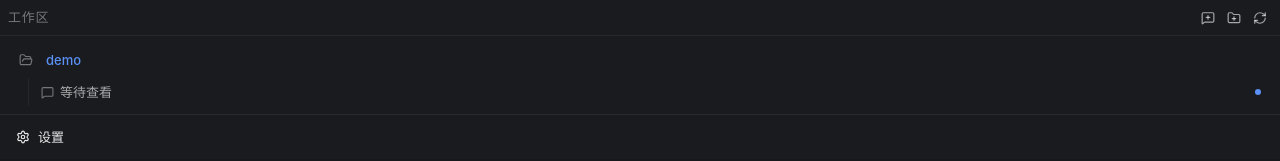
Scenario: WorkspaceSidebar › 执行完成后显示主题圆点，点击查看后移除
This screenshot has width=1280, height=161.
Expected: the message named "执行完成，点击查看" is shown, left=1255, top=89, right=1261, bottom=95
Click the button titled "等待查看": (86,92) left=33, top=78, right=1272, bottom=106
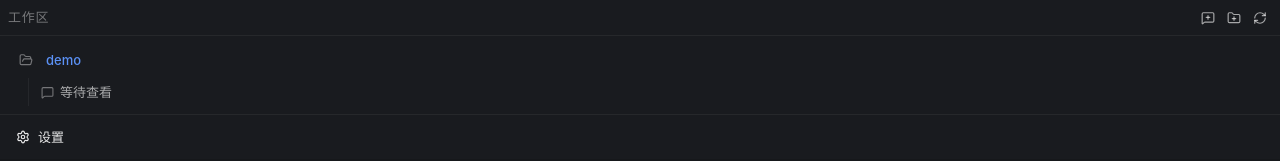
Expected: the message named "执行完成，点击查看" is gone
